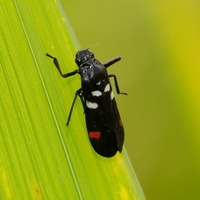insect: (46, 49, 126, 156)
